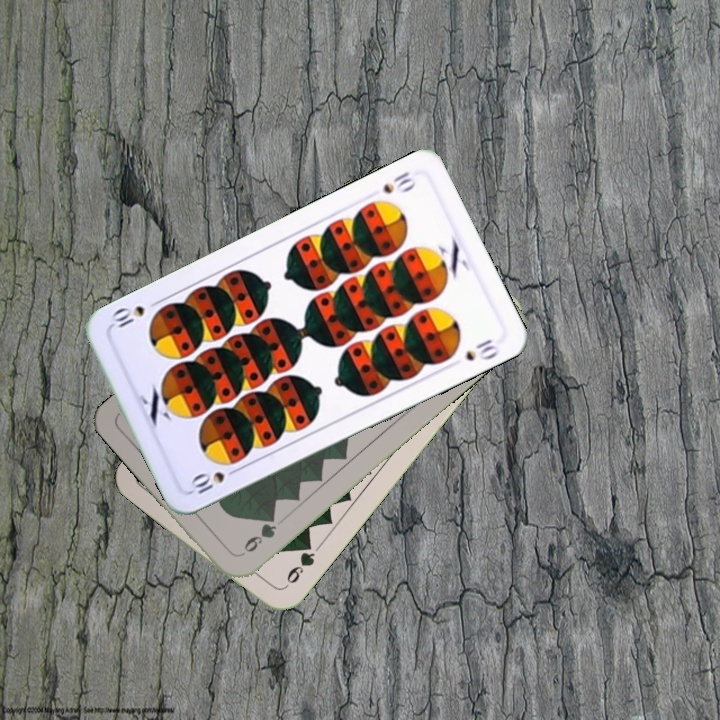G9: (279, 537, 318, 592), (236, 511, 280, 559)
S10: (186, 463, 243, 497), (378, 167, 419, 197)
